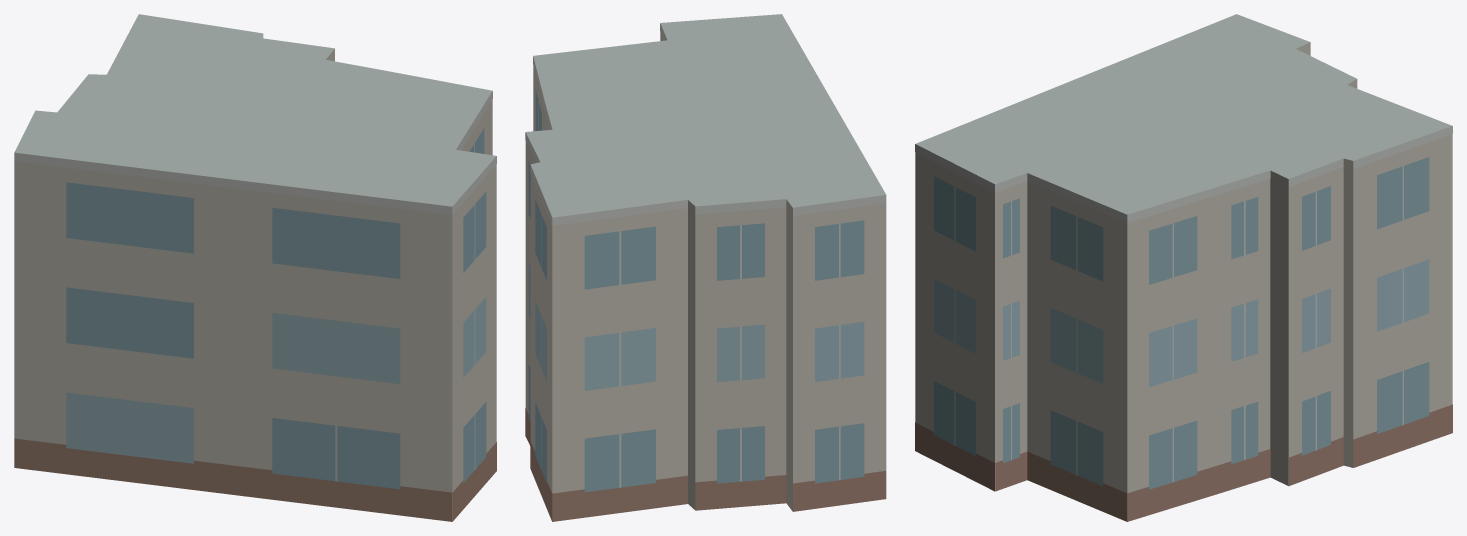
The model's file is survey-upis-32650511.glb.
3 renders of one model, left to right at view 1: azimuth 30°, elevation 25°; view 2: azimuth 150°, elevation 25°; view 3: azimuth 270°, elevation 25°, orthographic. The views are drawn at different scales.
Visible parts, largest first — view 1: survey-upis-32650511.tmp; view 2: survey-upis-32650511.tmp; view 3: survey-upis-32650511.tmp.
Boxes of the visible parts, bbox=[...] form: survey-upis-32650511.tmp: bbox=[14, 14, 496, 521]; survey-upis-32650511.tmp: bbox=[525, 14, 886, 521]; survey-upis-32650511.tmp: bbox=[915, 14, 1452, 521].
Bounding box in the file's own units: 12.77 × 9.1 × 14.44.
